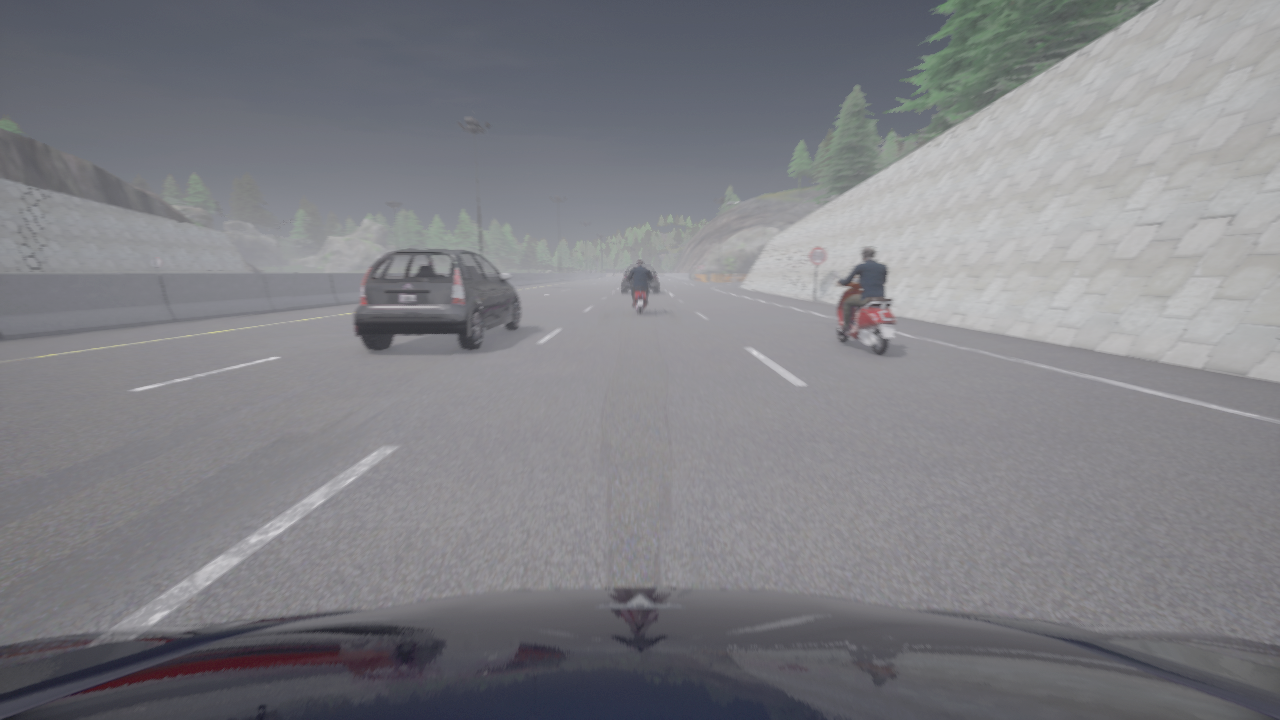cyclist: (0, 588, 1279, 719), (353, 249, 521, 350), (832, 271, 896, 355), (626, 272, 653, 314), (622, 265, 657, 292)
